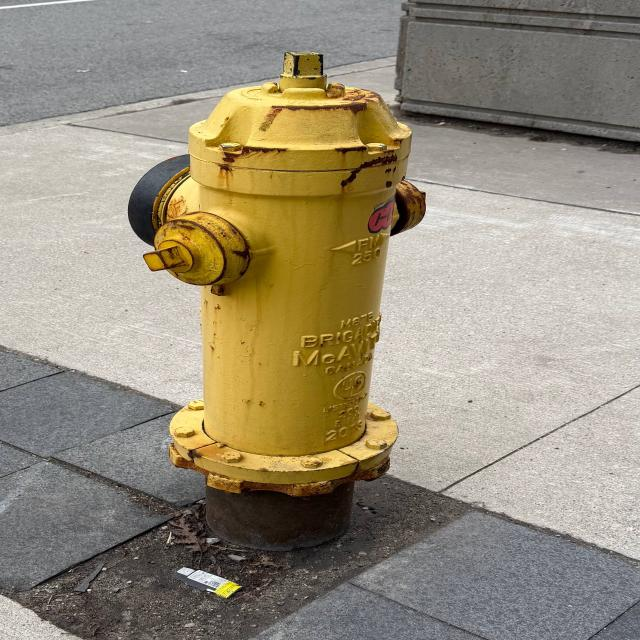Fire hydrant: (127, 50, 427, 498)
